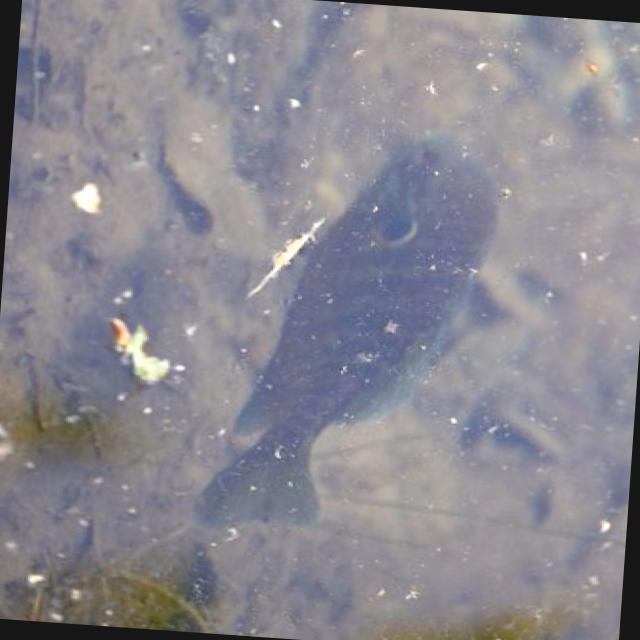Gunes Levregi: (180, 110, 514, 546)
